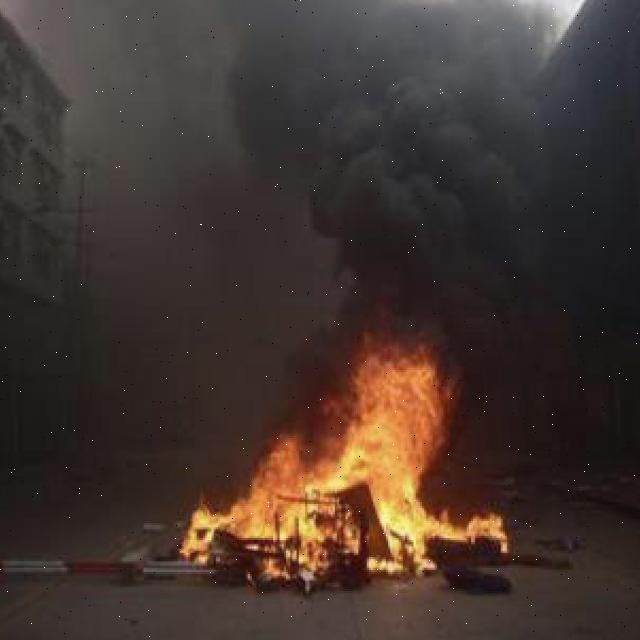fire: (190, 357, 518, 555)
smoke: (216, 0, 588, 351)
